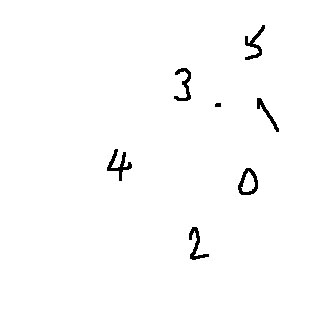.: (209, 95, 227, 115)
0: (231, 161, 274, 215)
1: (249, 92, 286, 134)
2: (184, 220, 218, 267)
3: (171, 63, 196, 107)
4: (101, 138, 139, 197)
5: (238, 21, 277, 70)
